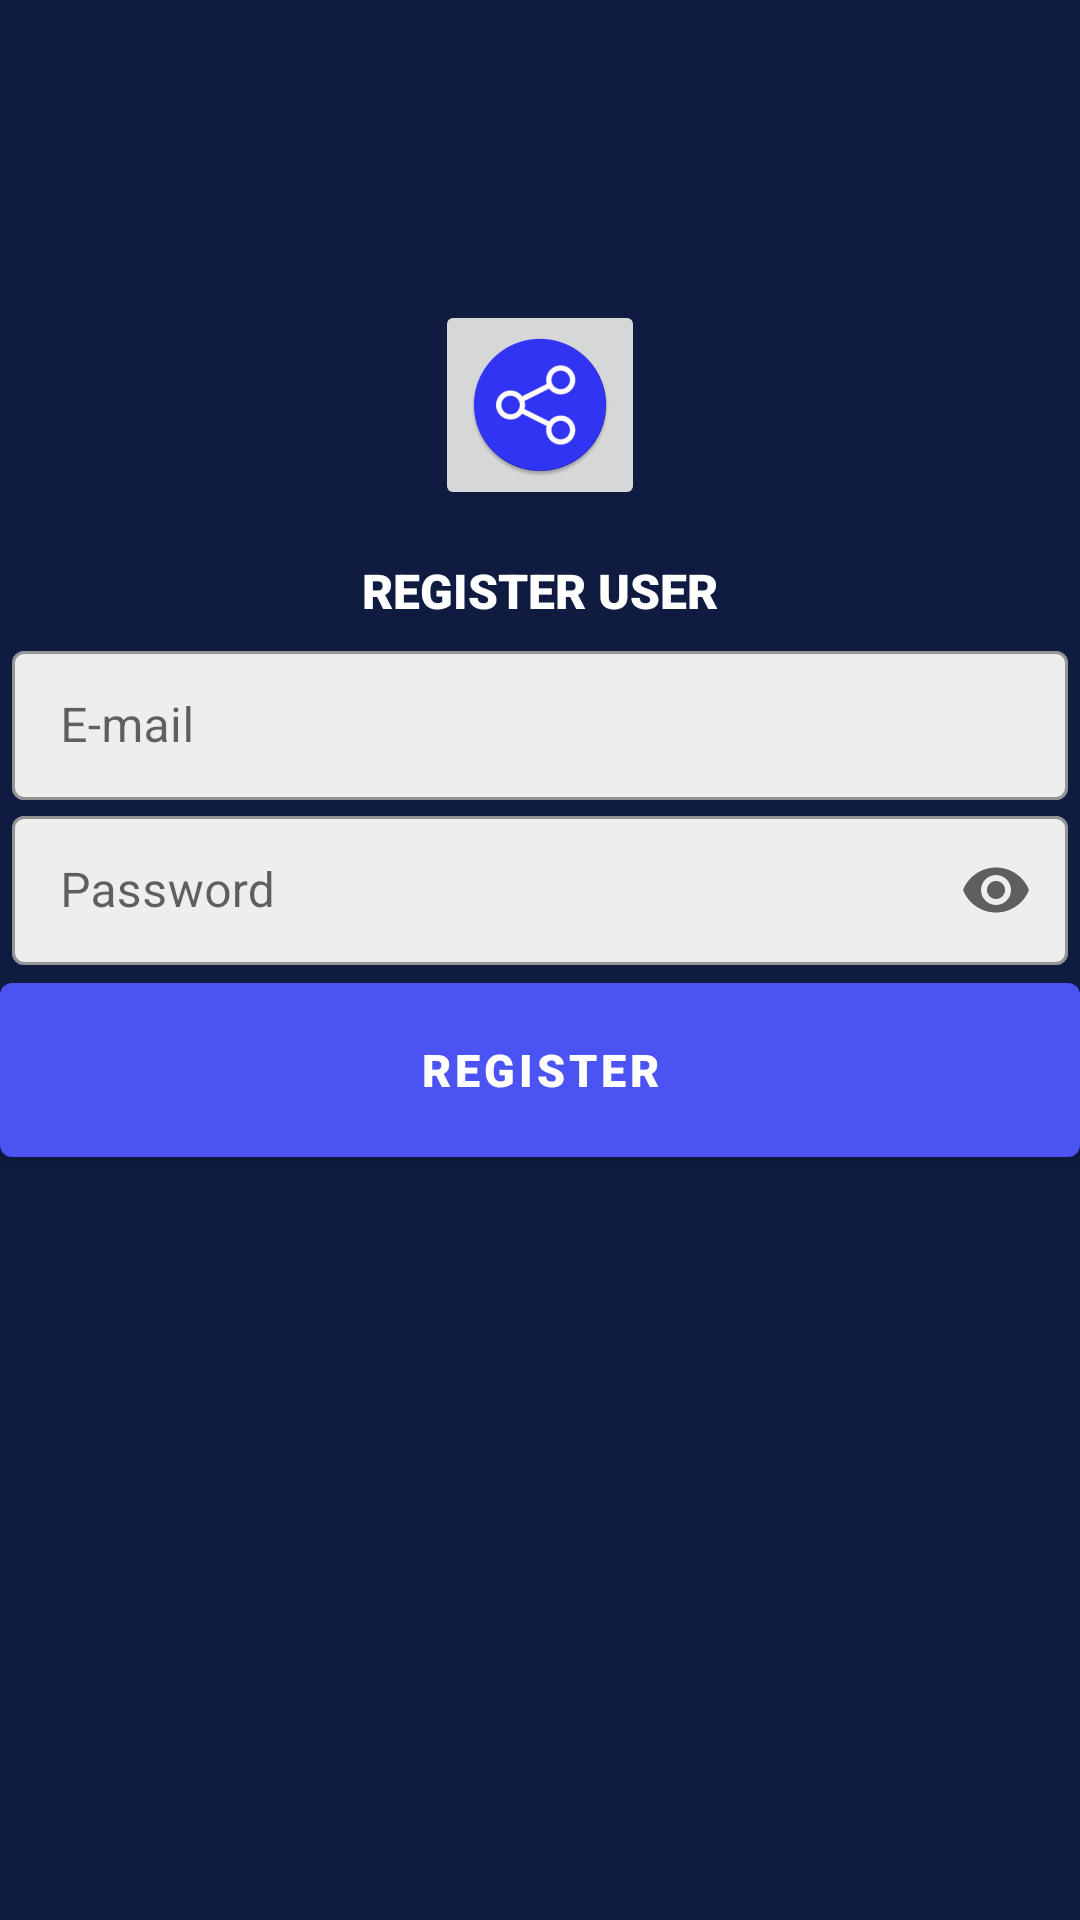

Point at icon controls on the screen. Image size 1080*1920, points as (x=x, y=y).
Icon that represents the brand app: (x=540, y=405)
